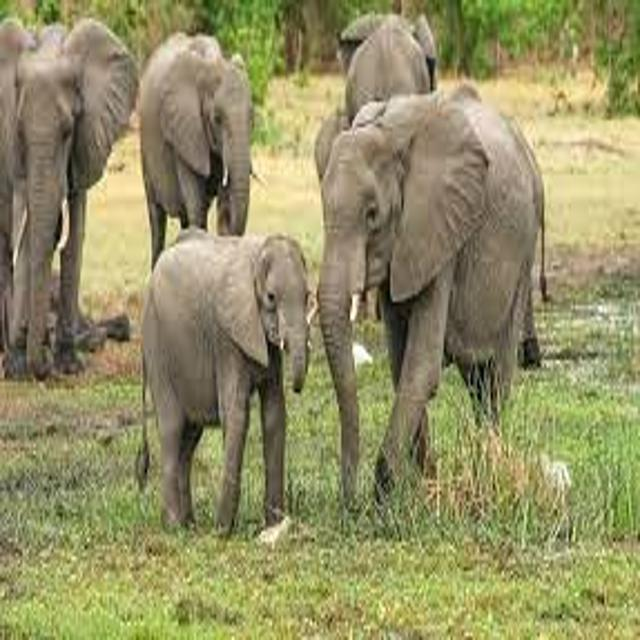Elephant: (303, 98, 590, 492), (117, 226, 332, 533), (0, 18, 138, 374), (140, 22, 262, 251)
